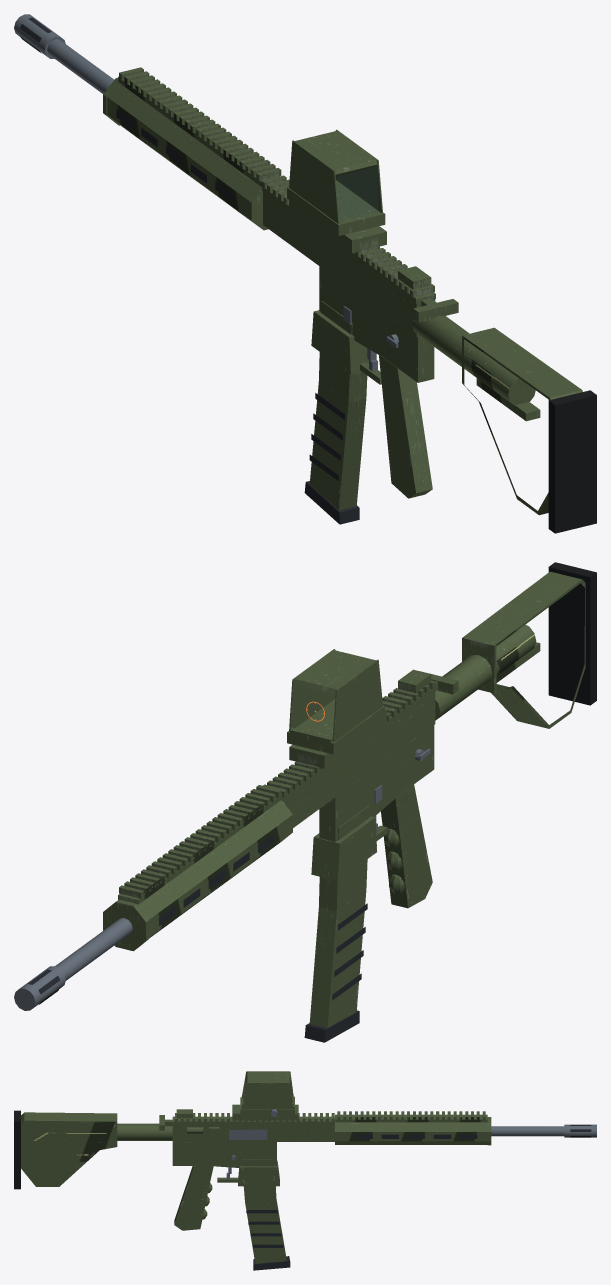
3 renders of one model, top to bottom at view 1: azimuth 30°, elevation 25°; view 2: azimuth 150°, elevation 25°; view 3: azimuth 270°, elevation 25°, orthographic. The views are drawn at different scales.
Visible parts, largest first — view 1: rifle, mag; view 2: rifle, mag; view 3: rifle, mag.
Boxes of the visible parts, left/top/right/bottom form: rifle: left=14, top=14, right=596, bottom=533; mag: left=304, top=300, right=367, bottom=524; rifle: left=14, top=562, right=596, bottom=1010; mag: left=304, top=805, right=369, bottom=1042; rifle: left=14, top=1071, right=596, bottom=1230; mag: left=241, top=1159, right=290, bottom=1270.
Size of the model in its own units: 0.0575 by 0.363 by 1.
Materials: 7 (2 with a texture image).
